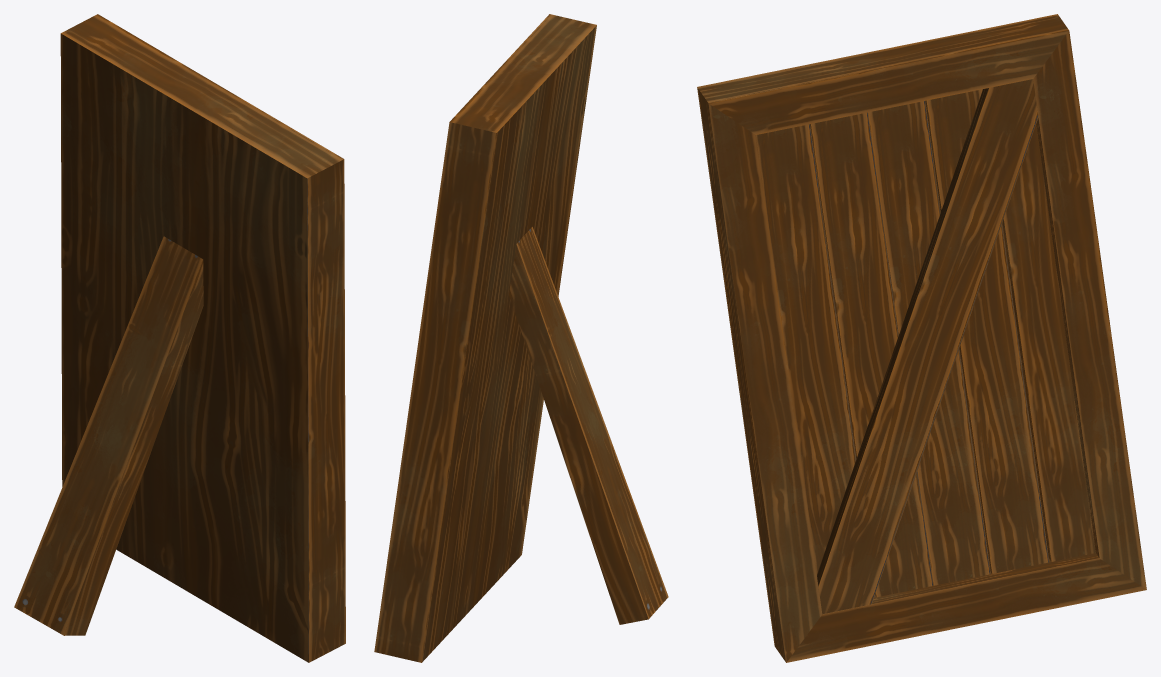
3 renders of one model, left to right at view 1: azimuth 30°, elevation 25°; view 2: azimuth 150°, elevation 25°; view 3: azimuth 270°, elevation 25°, orthographic. The views are drawn at different scales.
Parts seen in each view (by area): view 1: Cube.1877; view 2: Cube.1877; view 3: Cube.1877.
Boxes of the visible parts, <box> form: Cube.1877: <box>14,14,345,662</box>; Cube.1877: <box>374,14,668,662</box>; Cube.1877: <box>697,14,1146,662</box>.
Bounding box in the file's own units: 171 × 361 × 253.
Materials: 1 (1 with a texture image).
